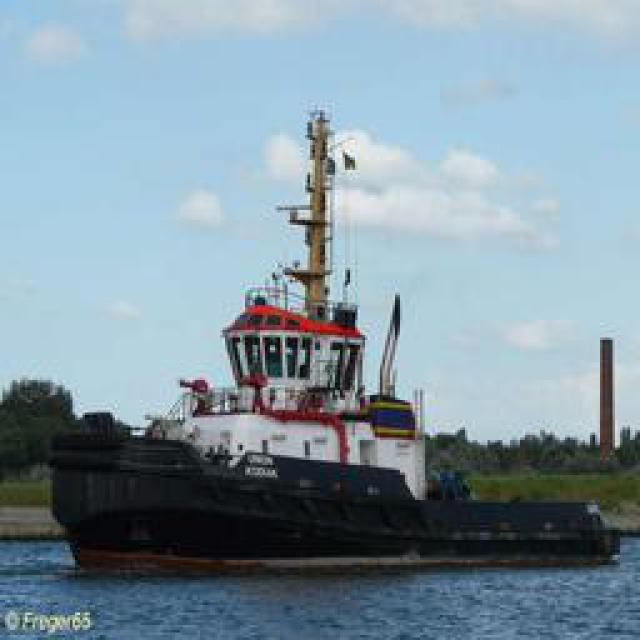Ship: (31, 106, 633, 578)
